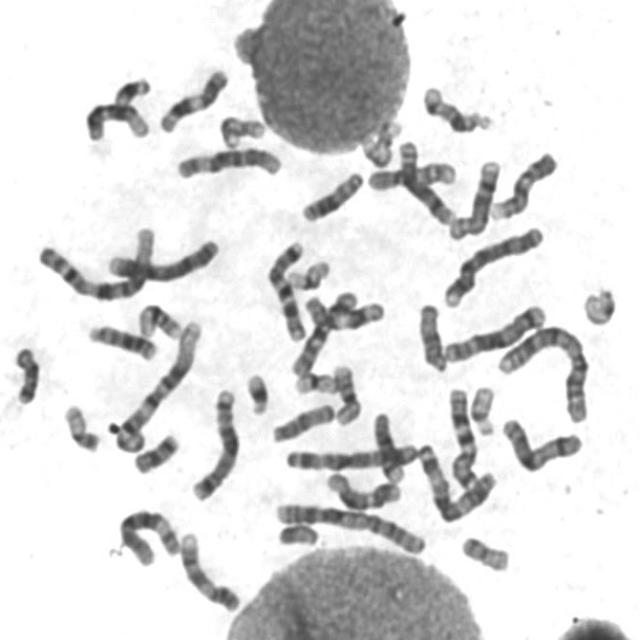A1: (109, 314, 205, 454), (33, 219, 158, 304)
A2: (492, 318, 593, 426), (269, 496, 429, 557)
A3: (412, 437, 499, 525), (280, 437, 418, 474)
B4: (438, 219, 546, 310), (101, 232, 221, 284)
B5: (438, 298, 550, 365), (185, 382, 242, 502)
C10: (286, 284, 359, 378), (362, 156, 460, 193)
C11: (152, 61, 231, 136), (300, 290, 386, 334)
C12: (321, 467, 404, 512), (79, 95, 152, 143)
C6: (170, 140, 284, 182), (114, 503, 183, 568)
C7: (260, 234, 308, 343), (442, 381, 482, 492)
C8: (392, 134, 458, 228), (443, 154, 502, 242)
C9: (174, 526, 242, 614), (485, 145, 560, 222)
D13: (296, 165, 366, 224), (81, 317, 159, 363)
D14: (416, 78, 496, 136), (367, 406, 412, 495)
D15: (267, 397, 337, 444), (413, 297, 450, 376)
E16: (327, 358, 364, 428), (132, 297, 183, 342)
E17: (354, 114, 403, 170), (214, 110, 267, 149)
E18: (128, 426, 181, 475), (8, 340, 42, 406)
F19: (282, 254, 332, 292), (289, 365, 339, 397)
F20: (58, 397, 102, 455), (456, 529, 512, 574)
G21: (107, 70, 153, 110), (240, 366, 271, 417)
G22: (578, 283, 625, 326), (465, 380, 499, 438)
X: (496, 410, 586, 475)
Y: (272, 517, 320, 548)
